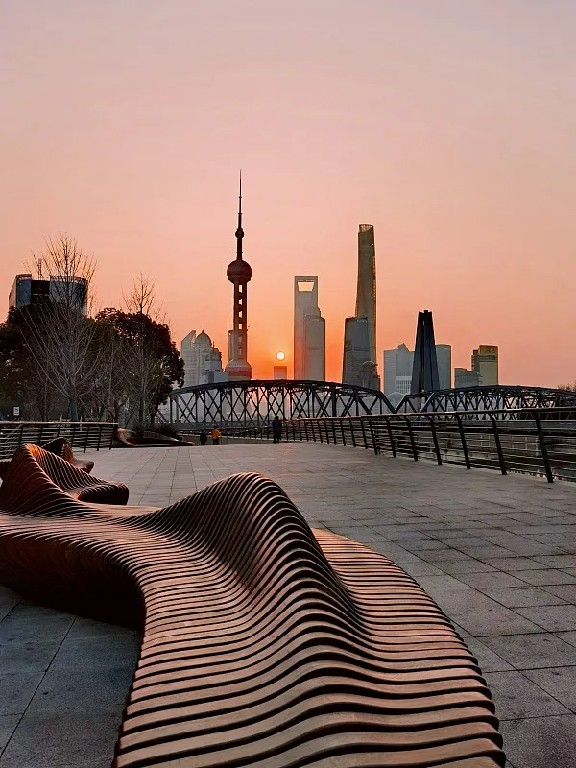Oriental: (225, 169, 253, 380)
